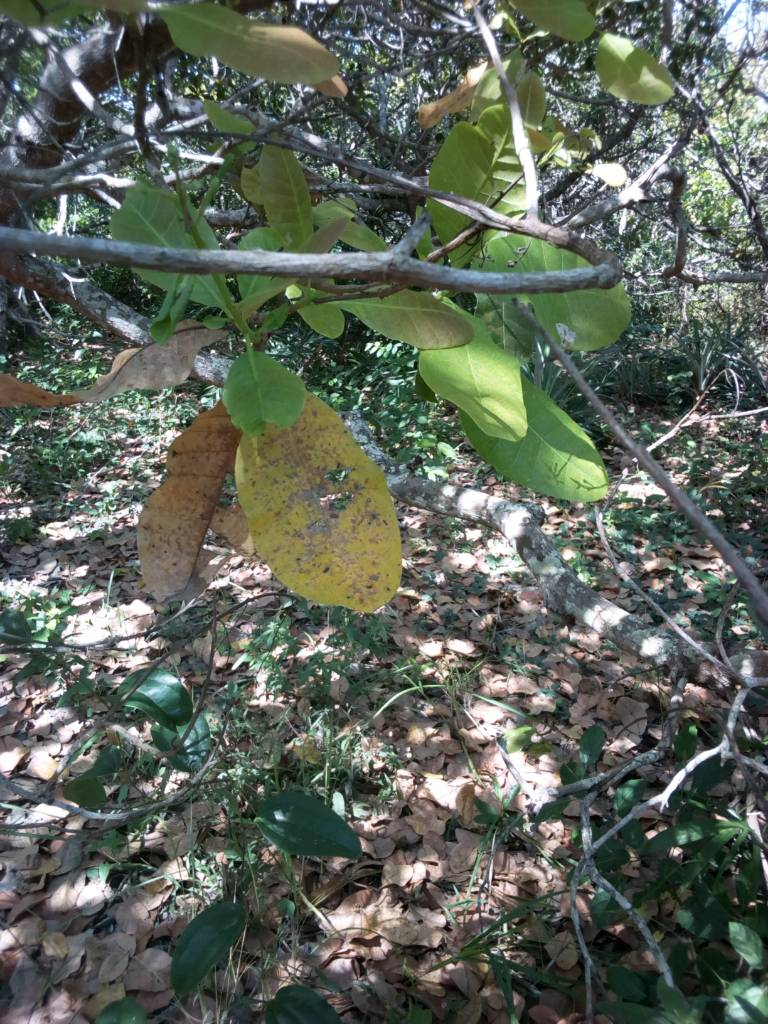Anthracnose: (229, 386, 408, 627), (2, 308, 224, 428), (130, 391, 241, 613)
